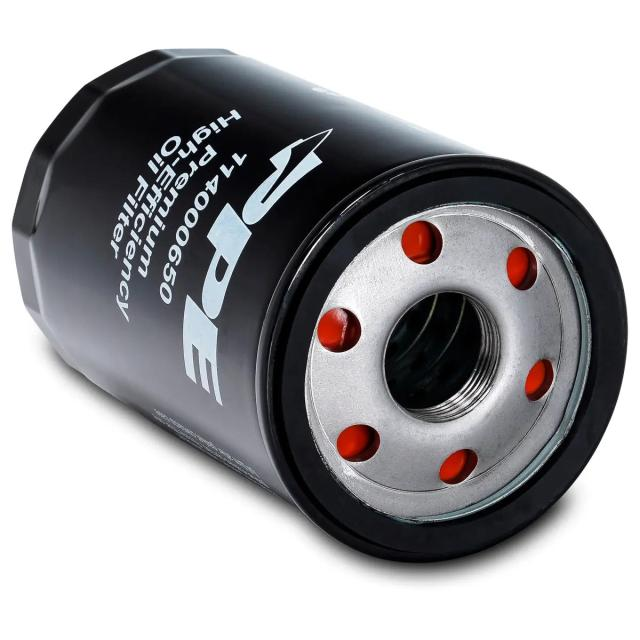oil_filter: (4, 35, 630, 569)
